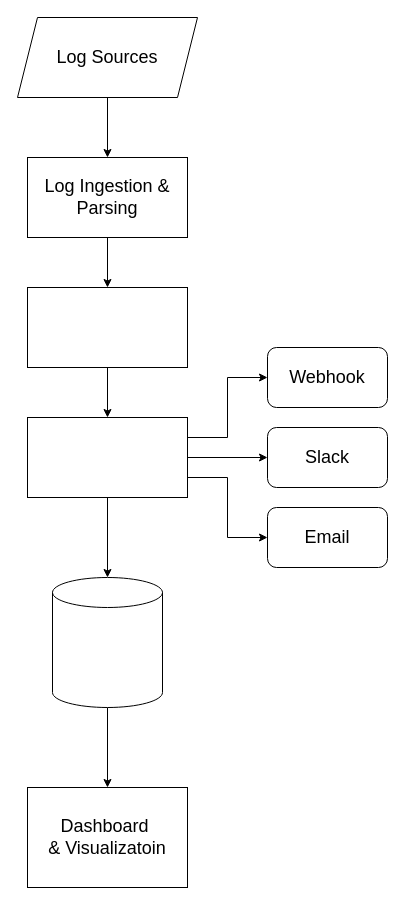
The diagram is 405 pixels wide and 905 high, and some of its shapes have lost their labels. The shapes that lost their labels are listed below. From the top down, each one's centre as x and y in pixels, then its label:
(x=107, y=327): Distrubuted Processing (Dask/Ray)
(x=107, y=457): Anomaly Detection Core
(x=107, y=642): Log Storage
